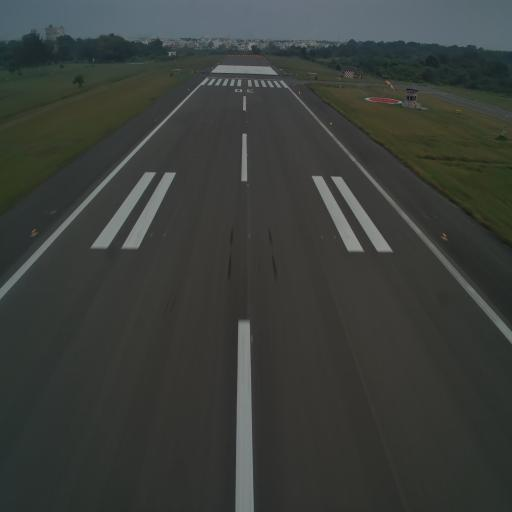off: (330, 232, 337, 241), (246, 231, 252, 241), (162, 230, 167, 240), (319, 232, 324, 242), (148, 230, 153, 239)
on: (442, 230, 450, 241), (30, 227, 37, 239), (249, 332, 255, 346), (245, 180, 250, 189)
